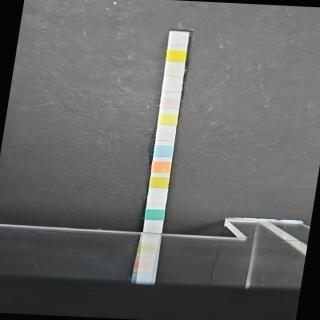mark: (168, 33, 188, 46), (162, 79, 181, 92), (156, 129, 174, 142), (145, 208, 164, 220), (151, 160, 170, 172), (164, 64, 183, 76), (160, 97, 180, 108), (150, 177, 168, 189), (154, 144, 172, 156), (166, 50, 185, 61), (159, 114, 177, 125), (148, 194, 166, 204)
